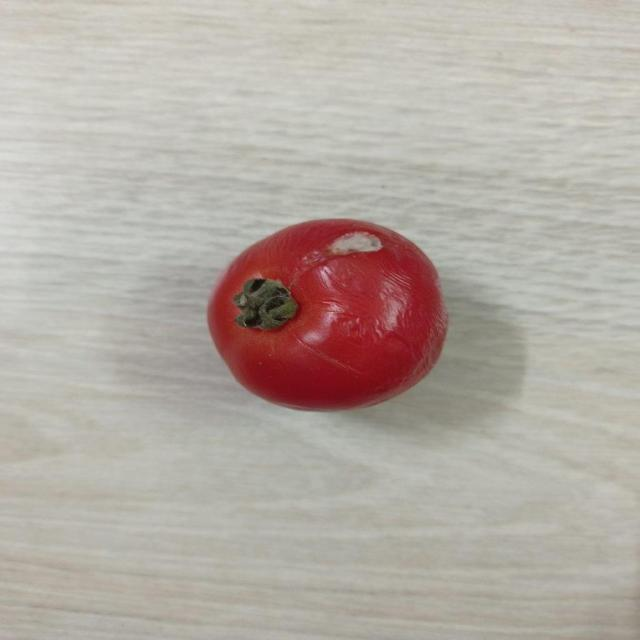Rotten: (208, 216, 447, 412)
